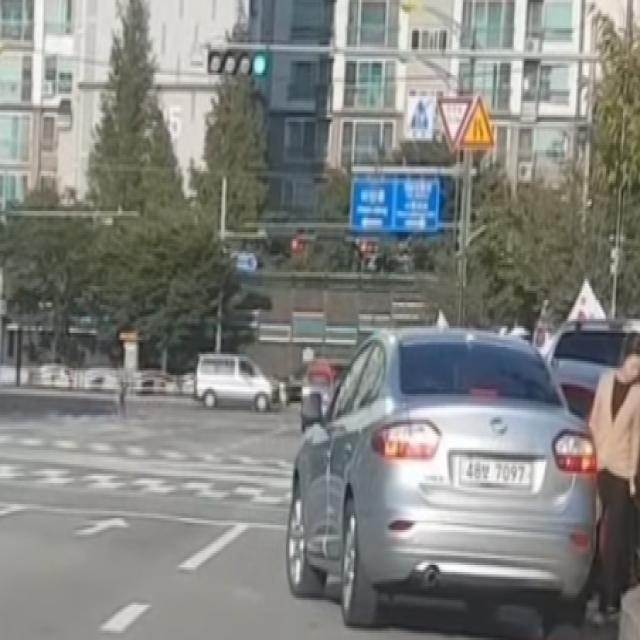Green Light: (252, 52, 266, 76)
